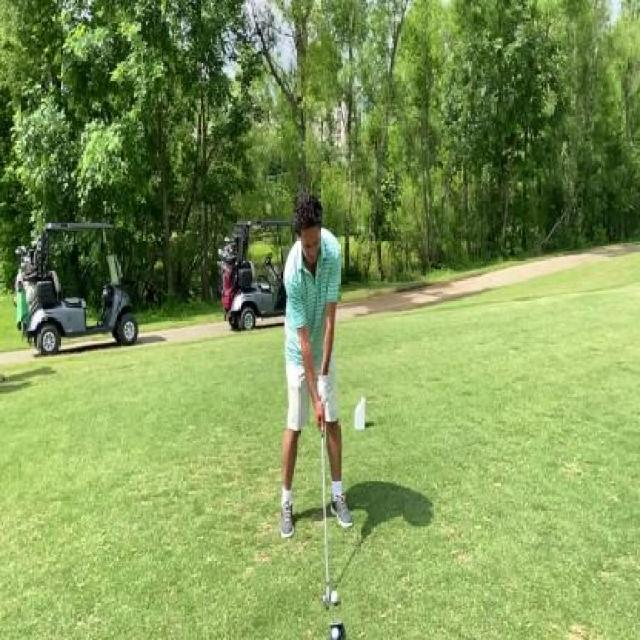club head: (321, 580, 332, 611)
